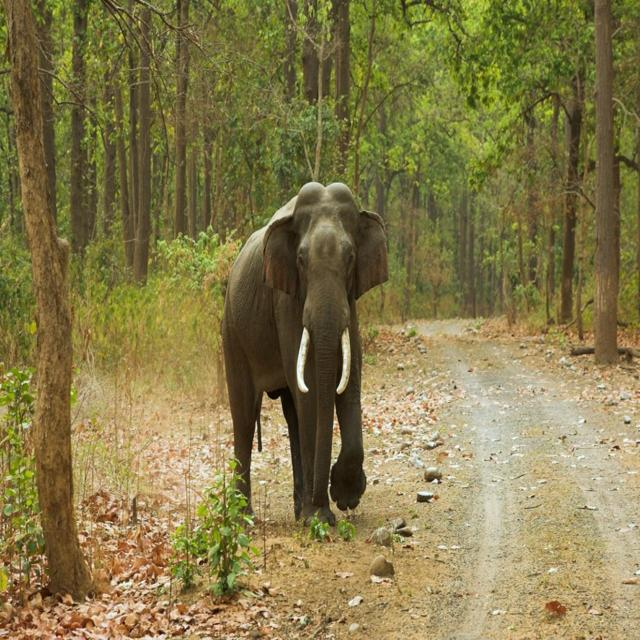elephant: (181, 155, 423, 565)
